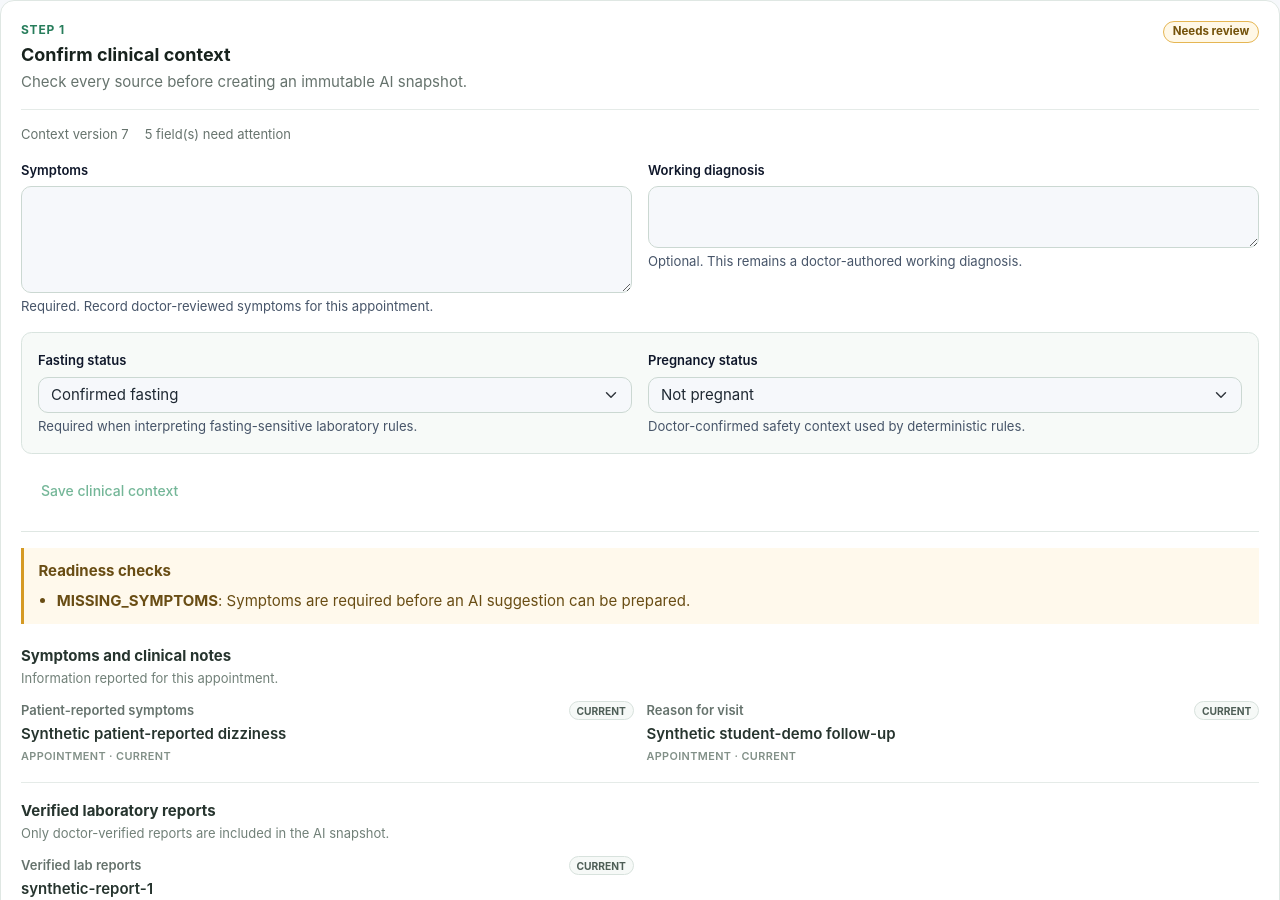
ClinicalContextPanel › saves the doctor draft using the server version and displays the updated version
Type "Synthetic fatigue for three days" into the text box labelled "Symptoms" at (326, 240), box [21,186,632,293]
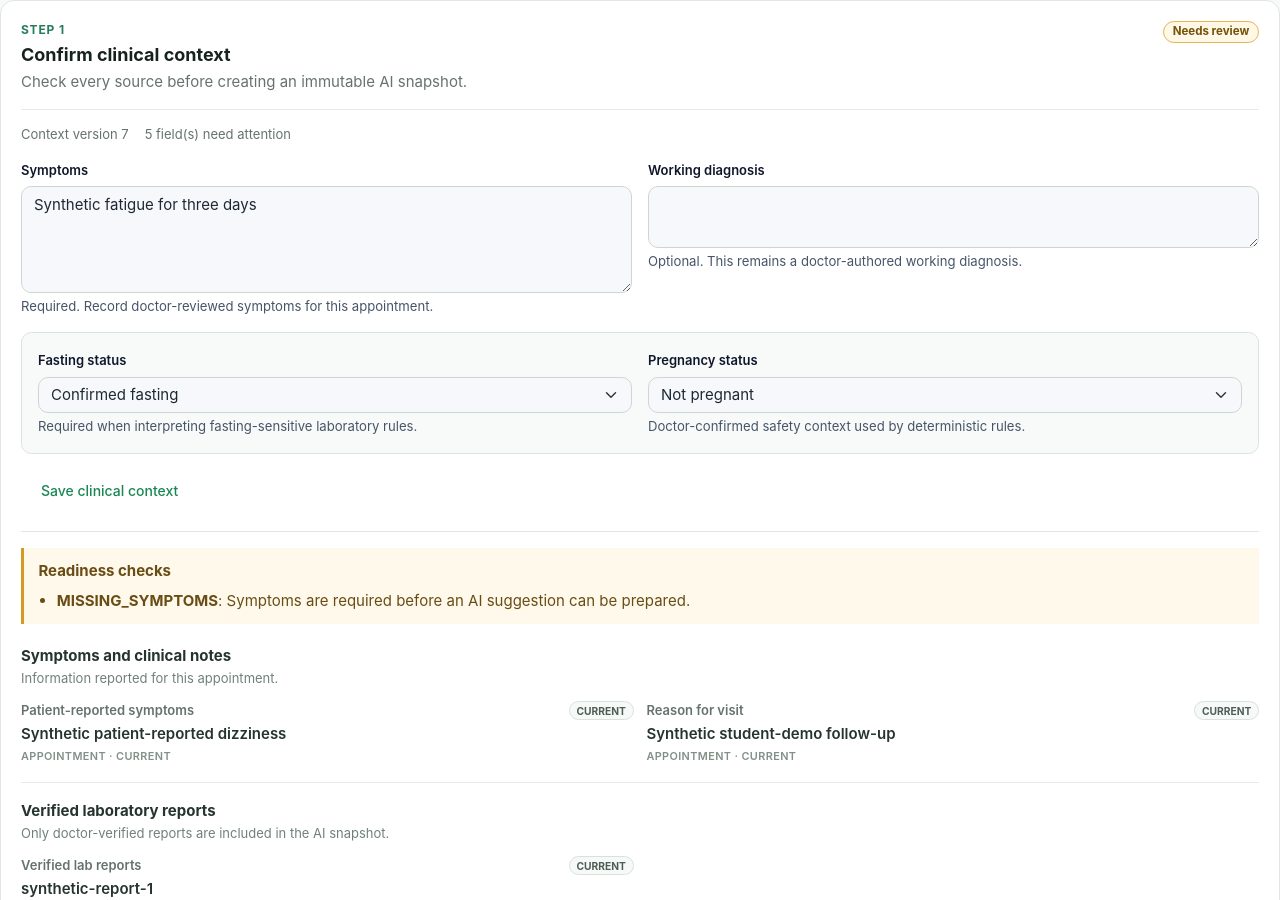
Click the button "Save clinical context" at (110, 491), box [21,470,632,511]
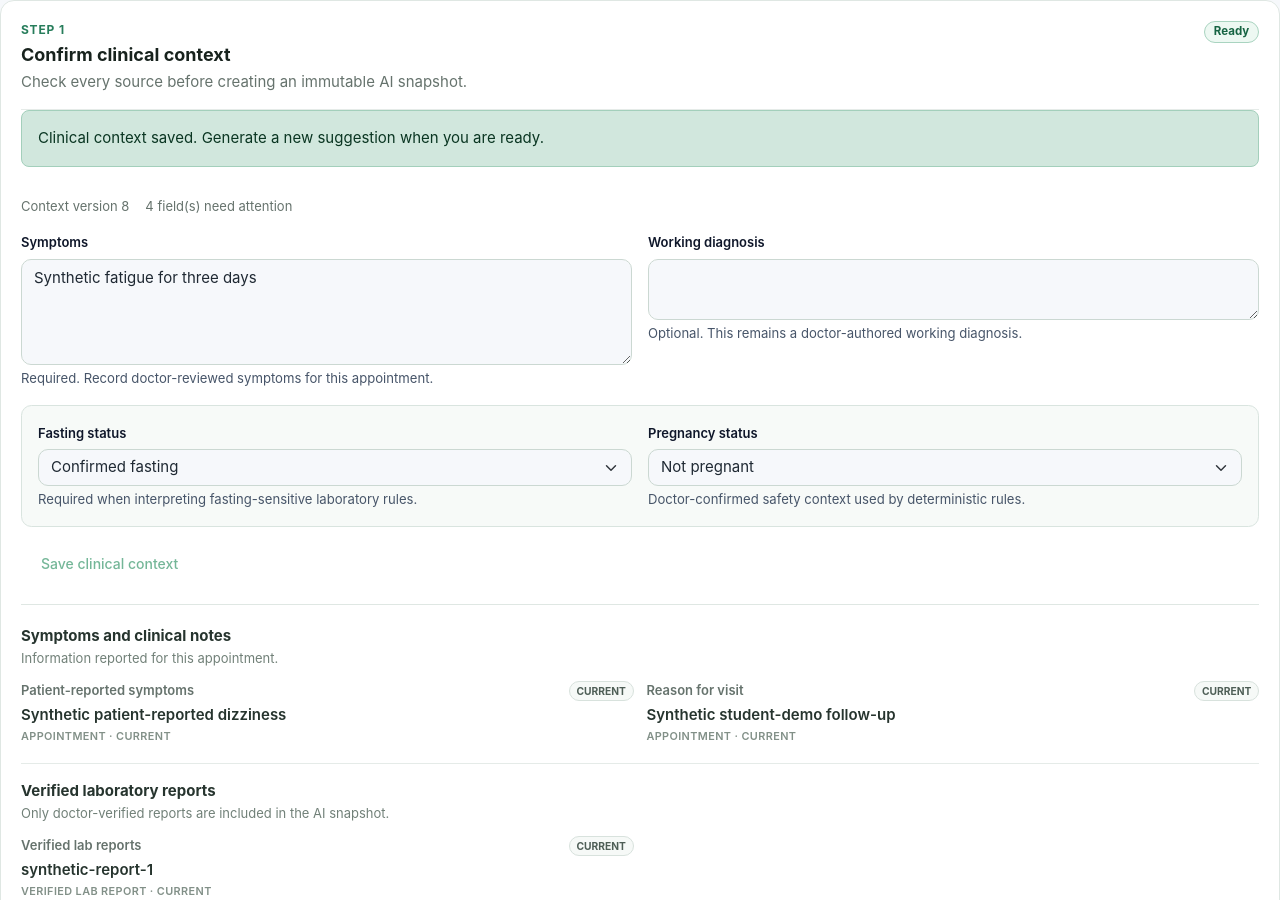
expect the text "Context version 8" is shown: met, box [21,197,129,217]
